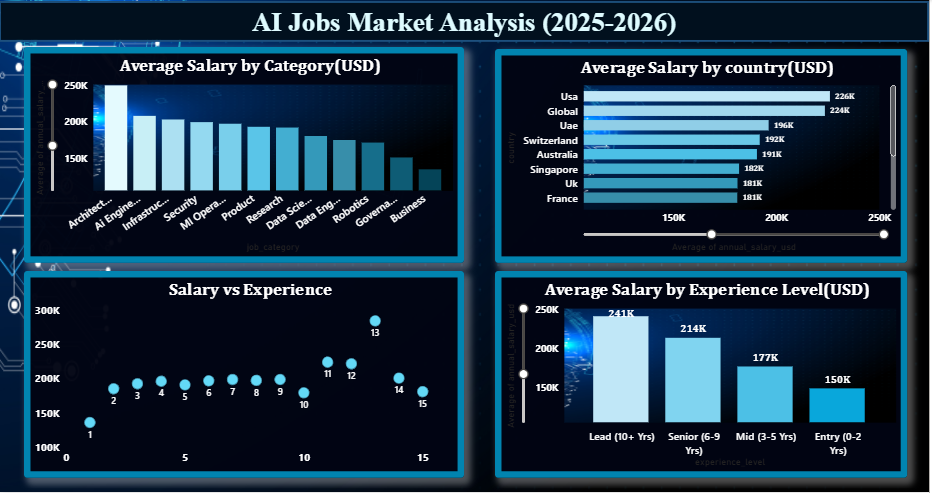

The page's visual inventory and layout, read from the dashboard file:
{"tool":"powerbi","page":{"name":"2ND PAGE","canvas":[1435,760],"ordinal":2},"visuals":[{"type":"clusteredColumnChart","title":"Average Salary  by Category(USD)","fields":{"Category":["Sheet1.job_category"],"Y":["Avg(Sheet1.annual_salary_usd)"]},"box":[38.6,74.1,678.9,333.3],"z":0},{"type":"clusteredBarChart","title":"Average Salary by country(USD)","fields":{"Category":["Sheet1.country"],"Y":["Avg(Sheet1.annual_salary_usd)"]},"box":[765.3,77.2,635.7,330.2],"z":1000},{"type":"clusteredColumnChart","title":"Average Salary by Experience Level(USD)","fields":{"Category":["Sheet1.experience_level"],"Y":["Avg(Sheet1.annual_salary_usd)"]},"box":[765.3,419.7,635.7,319.4],"z":2000},{"type":"scatterChart","title":"Salary vs Experience","fields":{"X":["Sheet1.years_of_experience"],"Y":["Sheet1.annual_salary_usd"]},"box":[38.6,419.7,678.9,319.4],"z":3000},{"type":"shape","box":[0,3.1,1435,63.3],"z":4000}]}

Visuals, with their boxes in screenshot pixels (x1, y1, x2, y2), scaled from the page's 1435x760 canvas onto the 932x493 screenshot:
"Average Salary  by Category(USD)" clusteredColumnChart: detection(25, 48, 466, 264)
"Average Salary by country(USD)" clusteredBarChart: detection(497, 50, 910, 264)
"Average Salary by Experience Level(USD)" clusteredColumnChart: detection(497, 272, 910, 479)
"Salary vs Experience" scatterChart: detection(25, 272, 466, 479)
shape: detection(0, 2, 931, 43)
